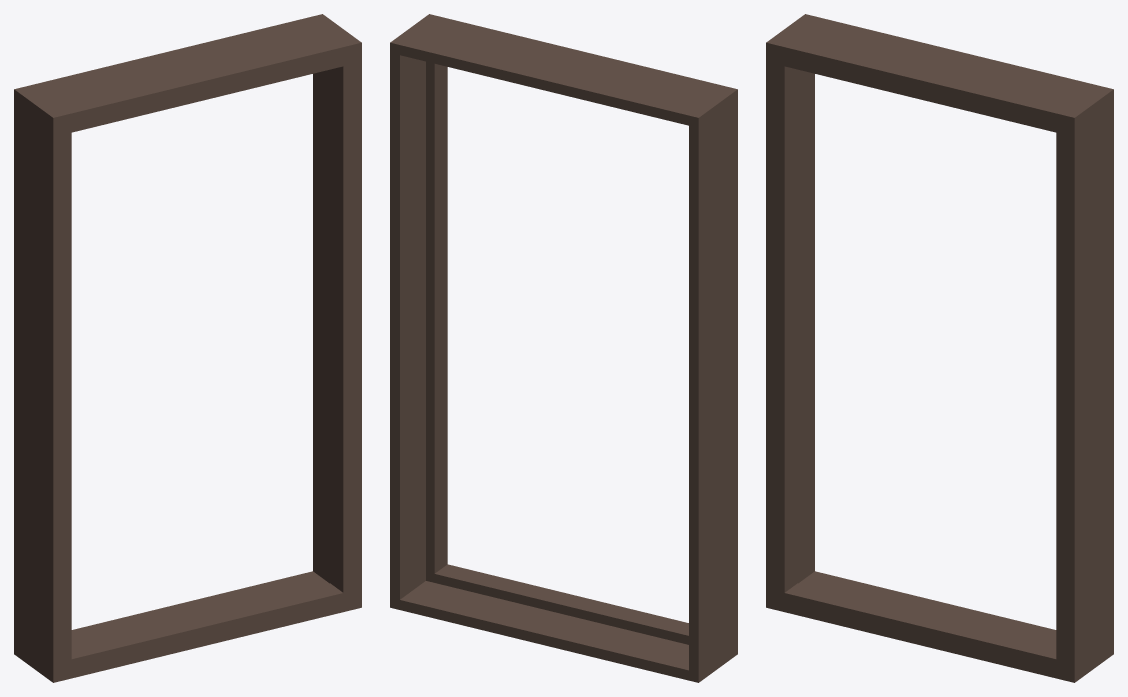
Rendered from intro_room.FBX.
3 renders of one model, left to right at view 1: azimuth 30°, elevation 25°; view 2: azimuth 150°, elevation 25°; view 3: azimuth 330°, elevation 25°, orthographic.
Visible parts, largest first — view 1: door_frame; view 2: door_frame; view 3: door_frame.
Boxes of the visible parts, bbox=[...] form: door_frame: bbox=[14, 14, 361, 682]; door_frame: bbox=[390, 14, 737, 682]; door_frame: bbox=[766, 14, 1113, 682].
Size of what is drawn, in the model's own units: 20 by 4.4 by 35.
